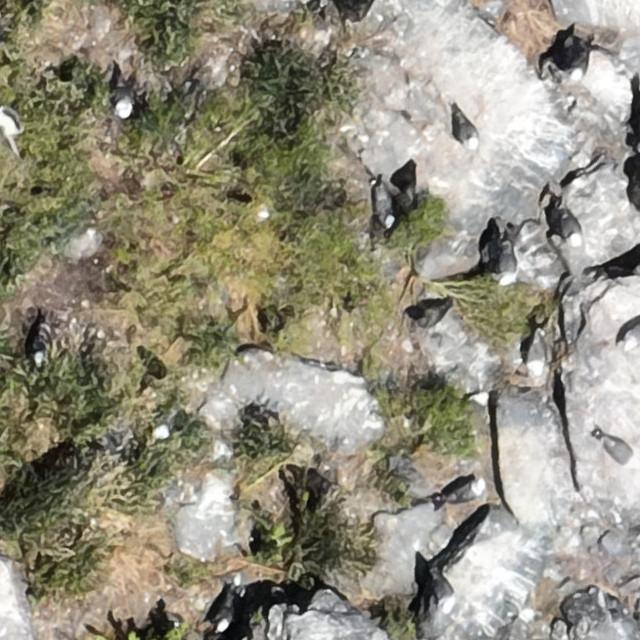umineko: (495, 231, 518, 286), (430, 570, 458, 614), (528, 319, 546, 376), (603, 438, 636, 466), (450, 481, 482, 501), (559, 213, 579, 244), (458, 117, 478, 148), (115, 87, 133, 117), (31, 331, 46, 364), (570, 57, 587, 82), (623, 323, 637, 352), (471, 394, 488, 417), (154, 417, 172, 438)
